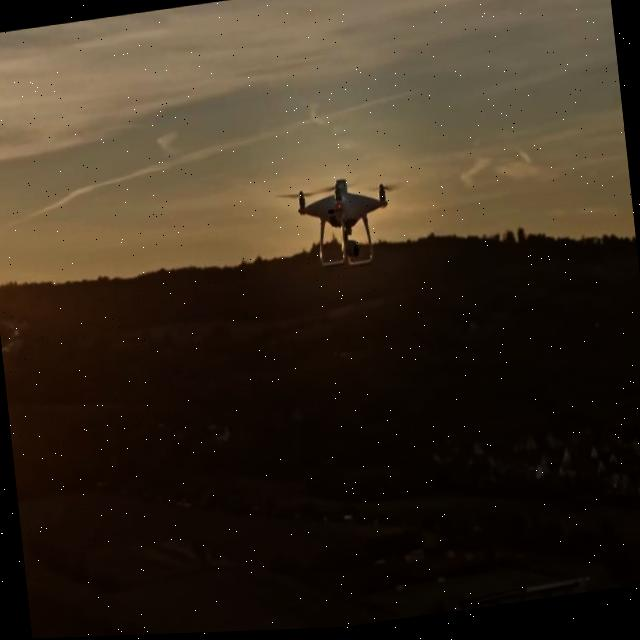drone: (272, 168, 414, 280)
